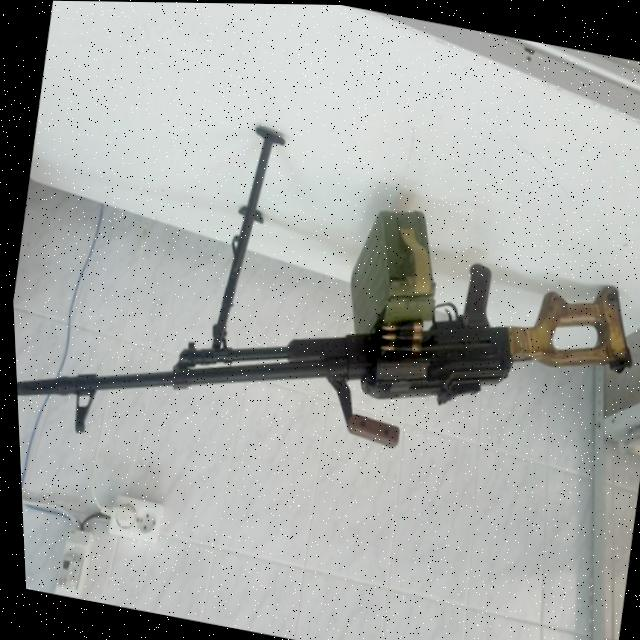firearm: (6, 176, 640, 531)
